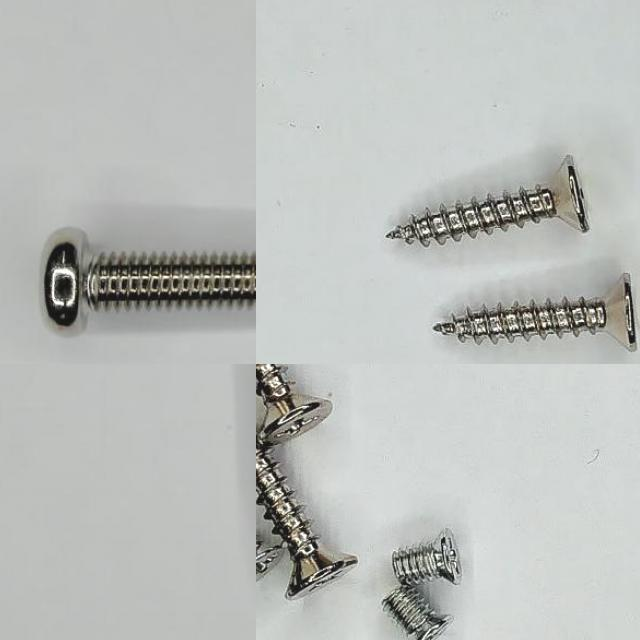Screw: (42, 229, 256, 327), (386, 155, 591, 246), (256, 430, 357, 599), (433, 274, 637, 352), (256, 364, 332, 447), (393, 529, 461, 587), (382, 587, 454, 640), (256, 534, 283, 580)
